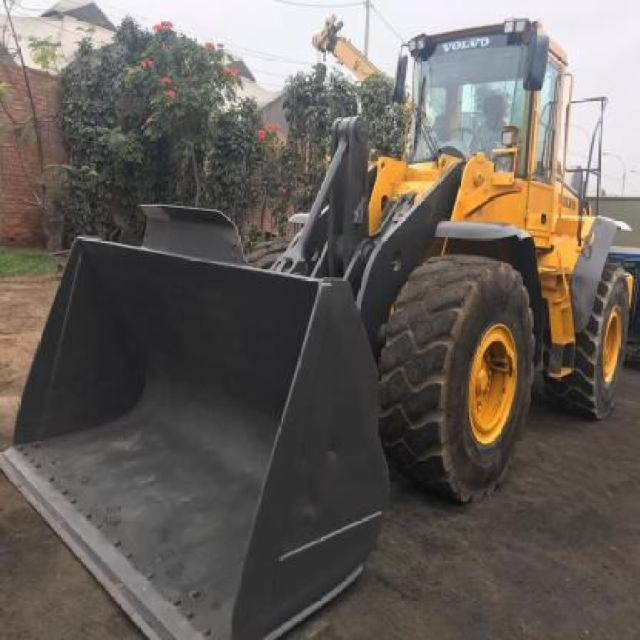buldozerpayloadergrader: (9, 6, 618, 637)
